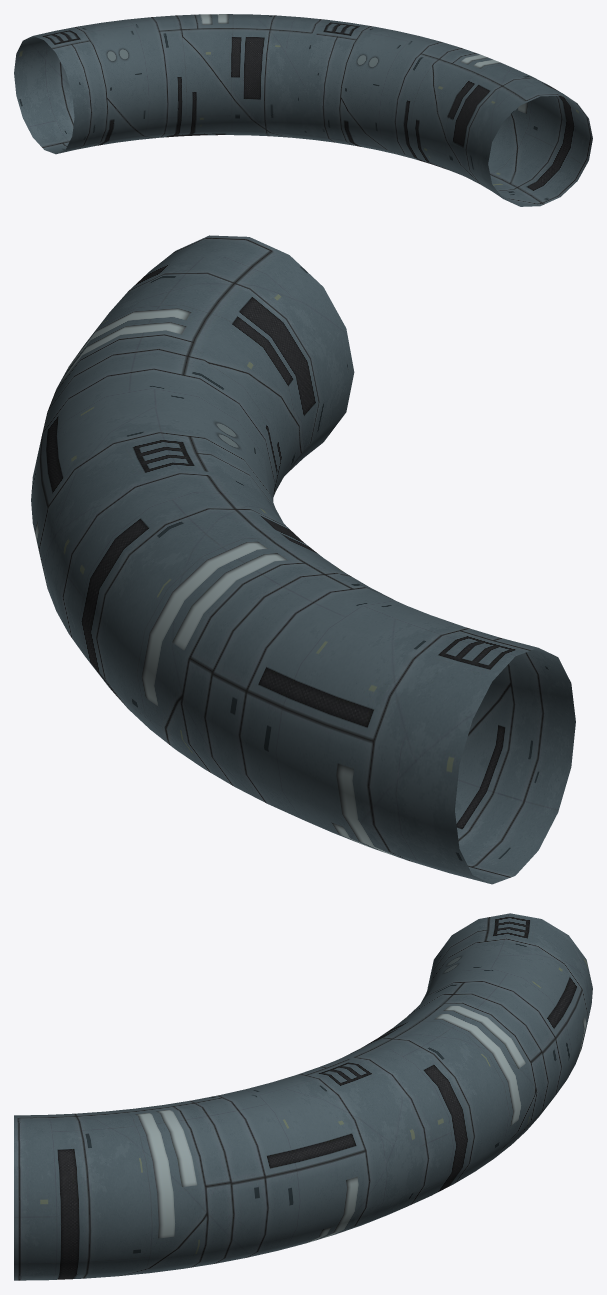
Rendered from hallway_turn.obj.
3 renders of one model, top to bottom at view 1: azimuth 30°, elevation 25°; view 2: azimuth 150°, elevation 25°; view 3: azimuth 270°, elevation 25°, orthographic. The views are drawn at different scales.
Visible parts, largest first — view 1: Torus; view 2: Torus; view 3: Torus.
Part boxes in pixels (x1=…): Torus: x1=14, y1=14, x2=592, y2=206; Torus: x1=31, y1=235, x2=575, y2=884; Torus: x1=14, y1=913, x2=592, y2=1280.
Bounding box in the file's own units: 7 × 2 × 7.
1 material, 1 textured.
